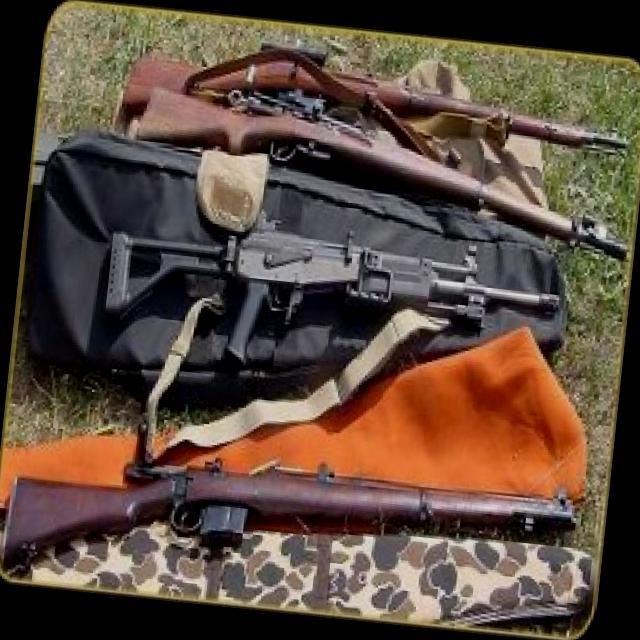long weapon: (0, 407, 593, 625), (101, 225, 560, 373)
